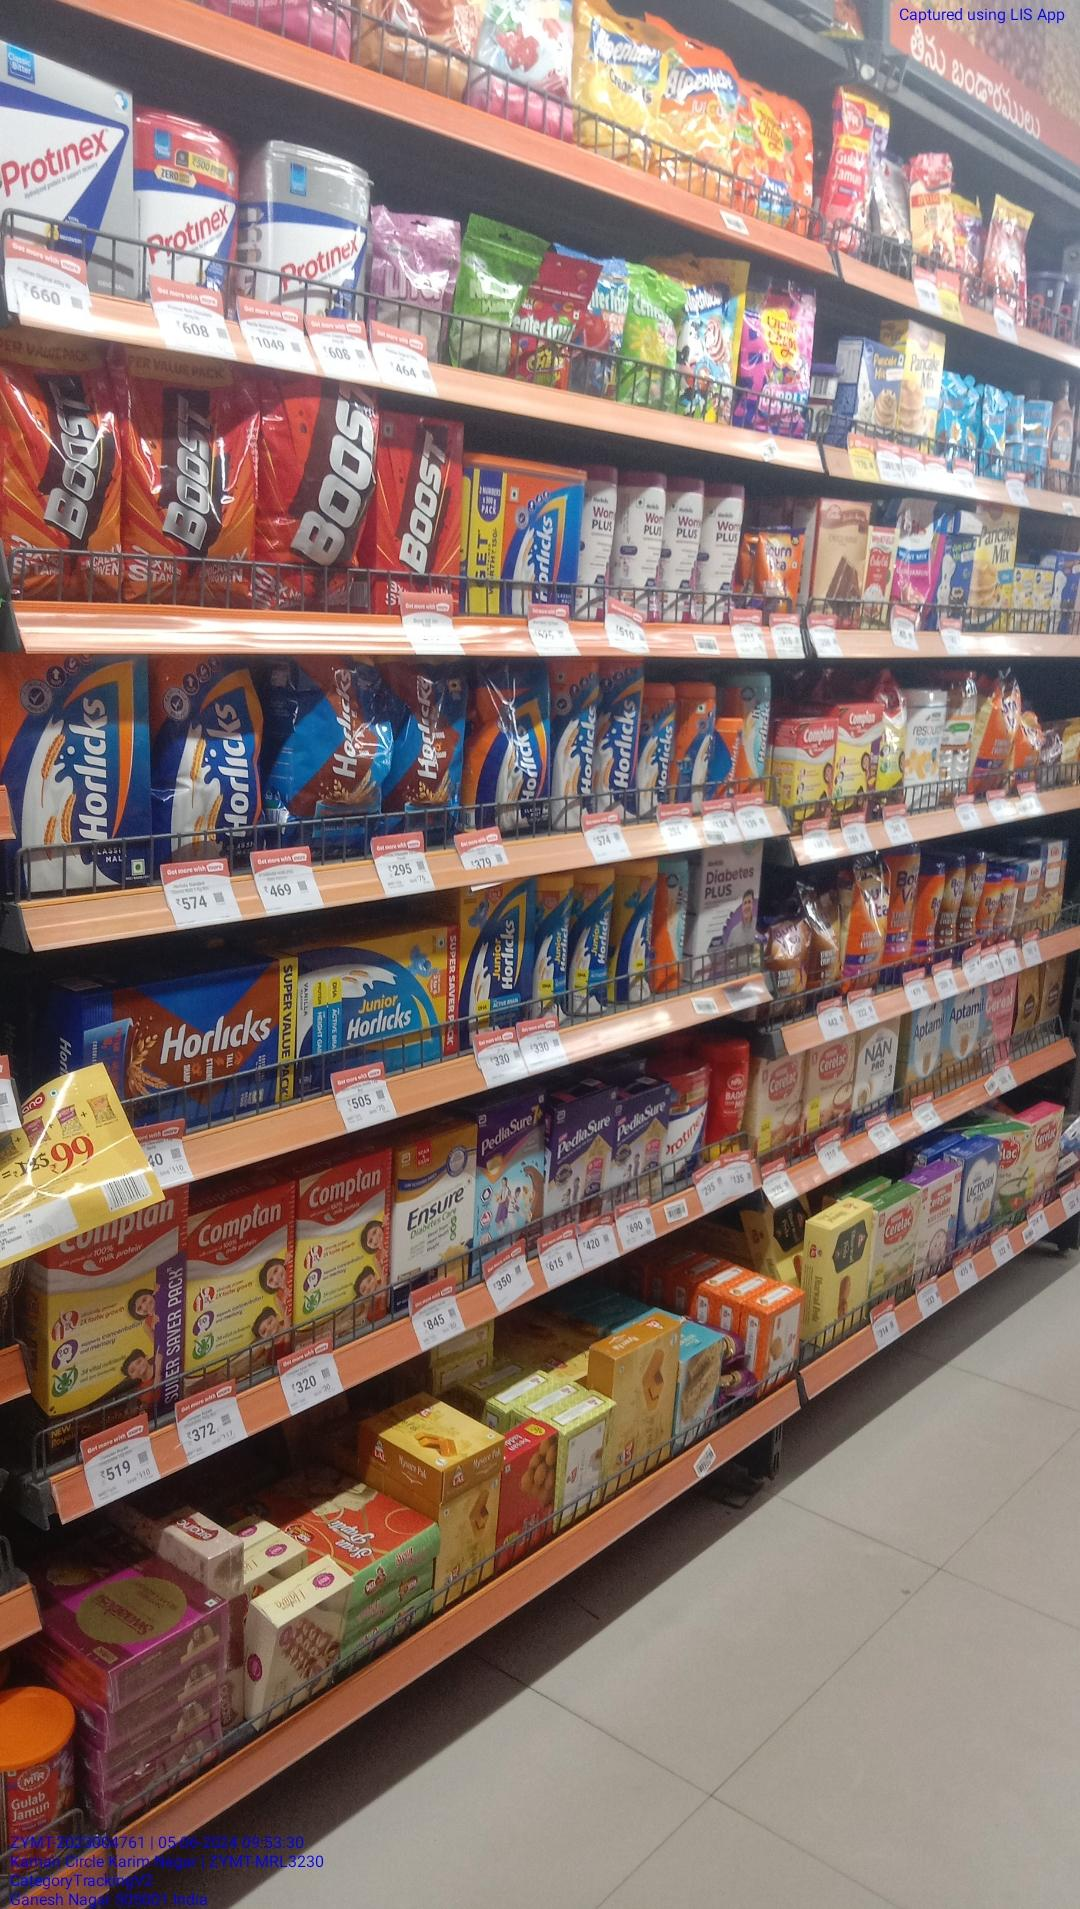HORLICKS_LITE_REGULAR_MALT_500_GM_JAR: (733, 670, 773, 796)
HORLICK_MALT_1_KG_CONTAINER: (463, 452, 583, 614)
PEDIASURE_7_PLUS_CHOCOLATE_400_G_PACK: (473, 1093, 543, 1261)
PEDIASURE_CHOCOLATE_500_G_PACK: (547, 1083, 613, 1231)
PEDIASURE_VANILLA_500_G_PACK: (617, 1082, 670, 1204)
PROTINEX_ORIGINAL_400_G_JAR: (250, 138, 368, 323)
